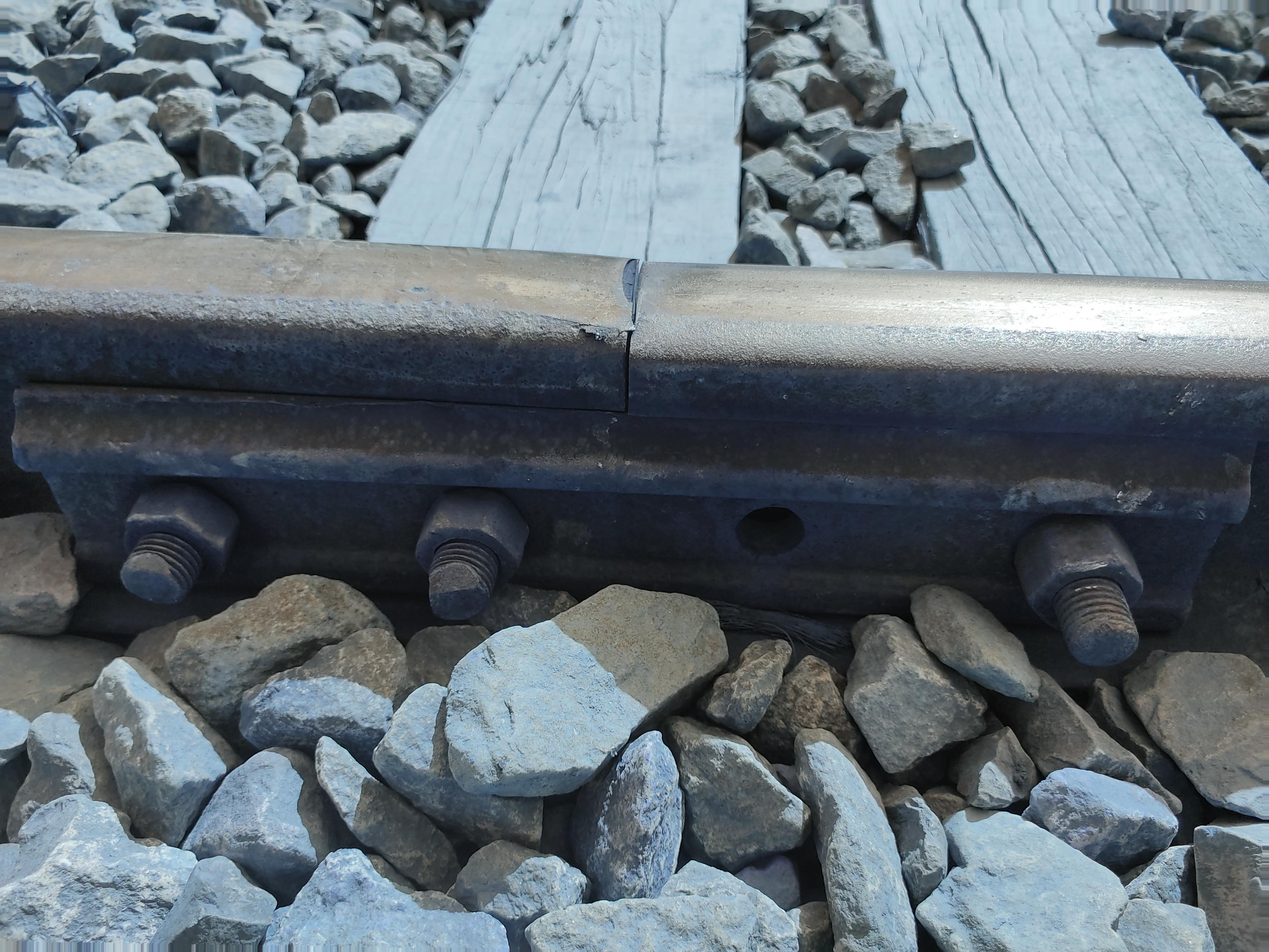tracks_fault: (593, 246, 679, 402)
